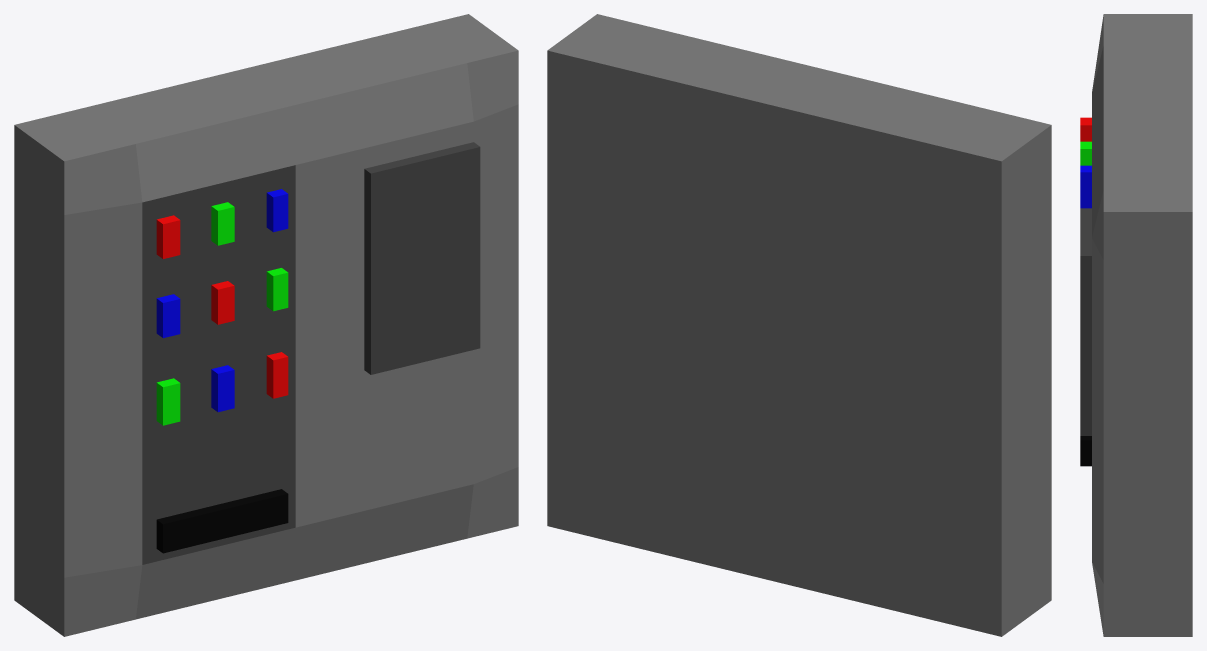
Rendered from control.obj.
The picture shows the model from 3 angles, left to right: view 1: azimuth 30°, elevation 25°; view 2: azimuth 150°, elevation 25°; view 3: azimuth 270°, elevation 25°; orthographic projection. The views are drawn at different scales.
Parts seen in each view (by area): view 1: Cube; view 2: Cube; view 3: Cube.
Part boxes in pixels (x1,y1,x2,y2): Cube: (14, 14, 518, 636); Cube: (547, 14, 1051, 636); Cube: (1080, 14, 1192, 636).
Bounding box in the file's own units: 2 × 2 × 0.4806.
